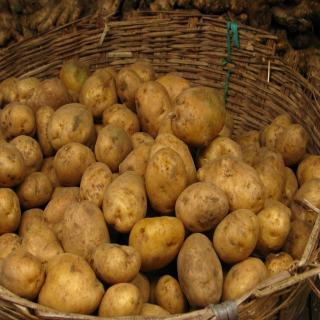Potato: (0, 58, 320, 320), (177, 234, 222, 308)
